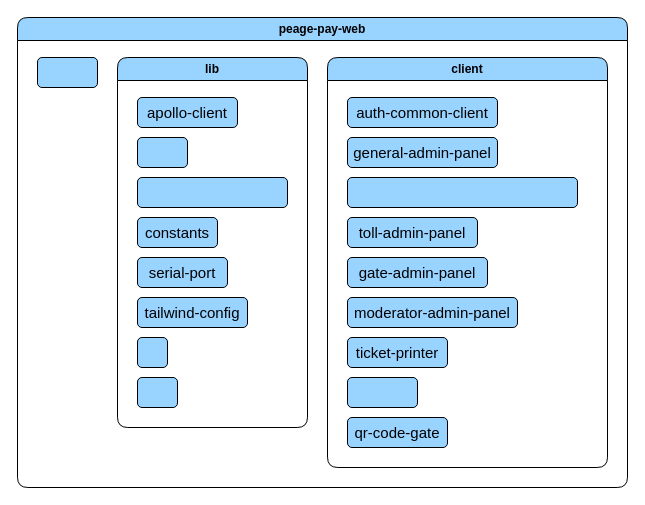
This 645x505 diagram has some shape labels left out. The box of each missing label's shape, as (x1, y1, x2, y2) in pixels:
assets: (36, 56, 98, 88)
auth: (136, 136, 188, 168)
automatic-gate-auth: (136, 176, 288, 208)
human-ressources-admin-panel: (346, 176, 578, 208)
rfid-gate: (346, 376, 418, 408)
ui: (136, 336, 168, 368)
utils: (136, 376, 178, 408)
